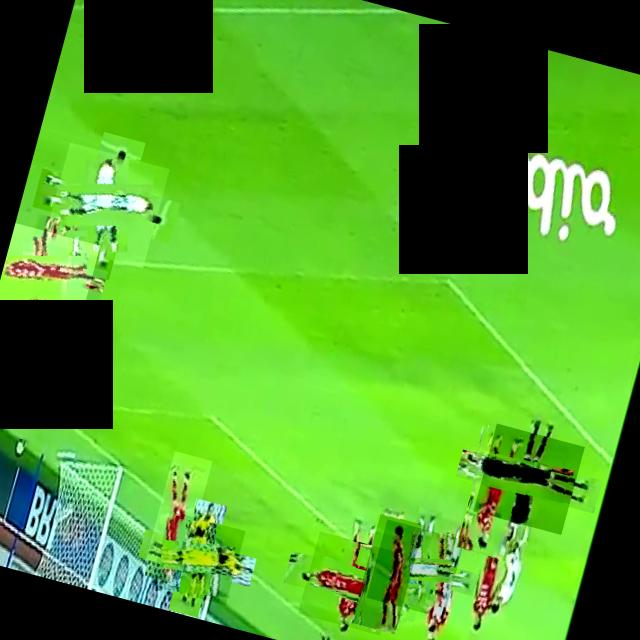goalkeeper: (150, 510, 245, 606)
referee: (473, 424, 584, 534)
soccer-player: (43, 142, 169, 268), (0, 222, 100, 333), (298, 531, 402, 635), (453, 424, 532, 558), (366, 519, 464, 618), (141, 450, 212, 584), (351, 513, 424, 634)
